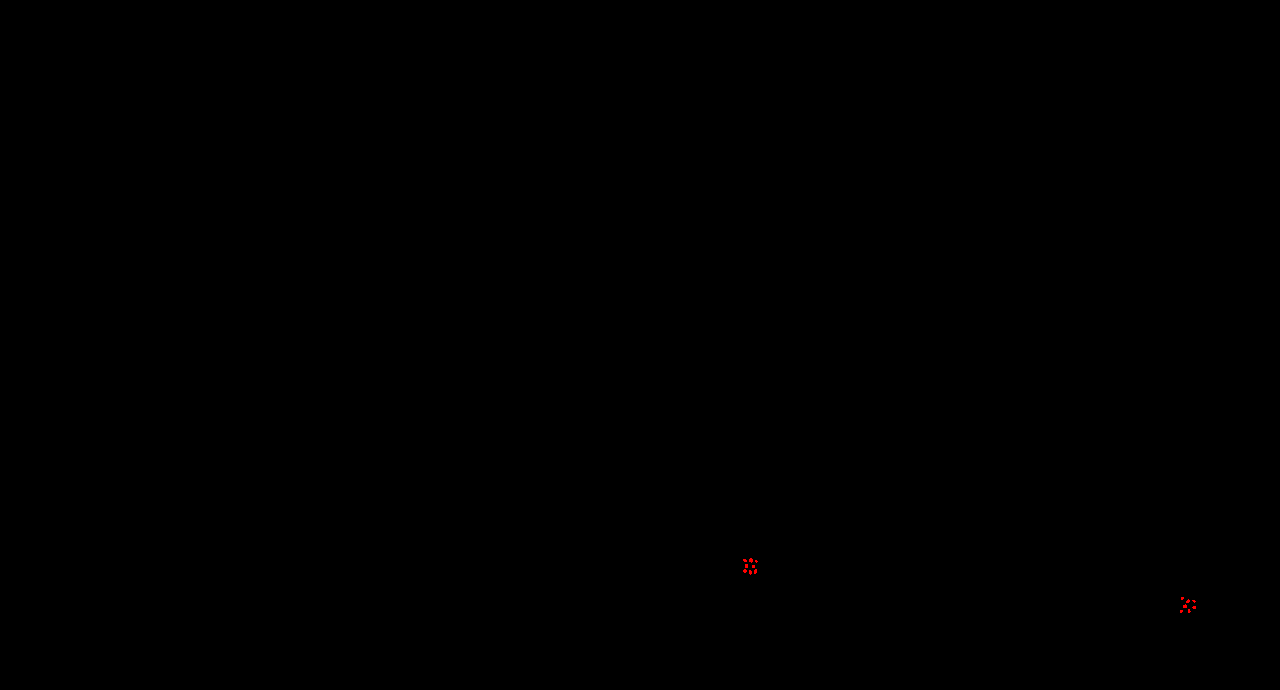Target: (749, 558, 753, 563), (743, 569, 747, 573), (1186, 599, 1190, 603), (1183, 604, 1187, 608), (754, 569, 757, 574), (749, 570, 752, 575), (743, 559, 747, 562), (745, 564, 748, 568), (1192, 600, 1196, 603), (1192, 606, 1196, 609), (1188, 609, 1191, 613), (755, 560, 758, 563), (752, 565, 755, 568), (1181, 597, 1184, 600), (1180, 610, 1183, 613)
